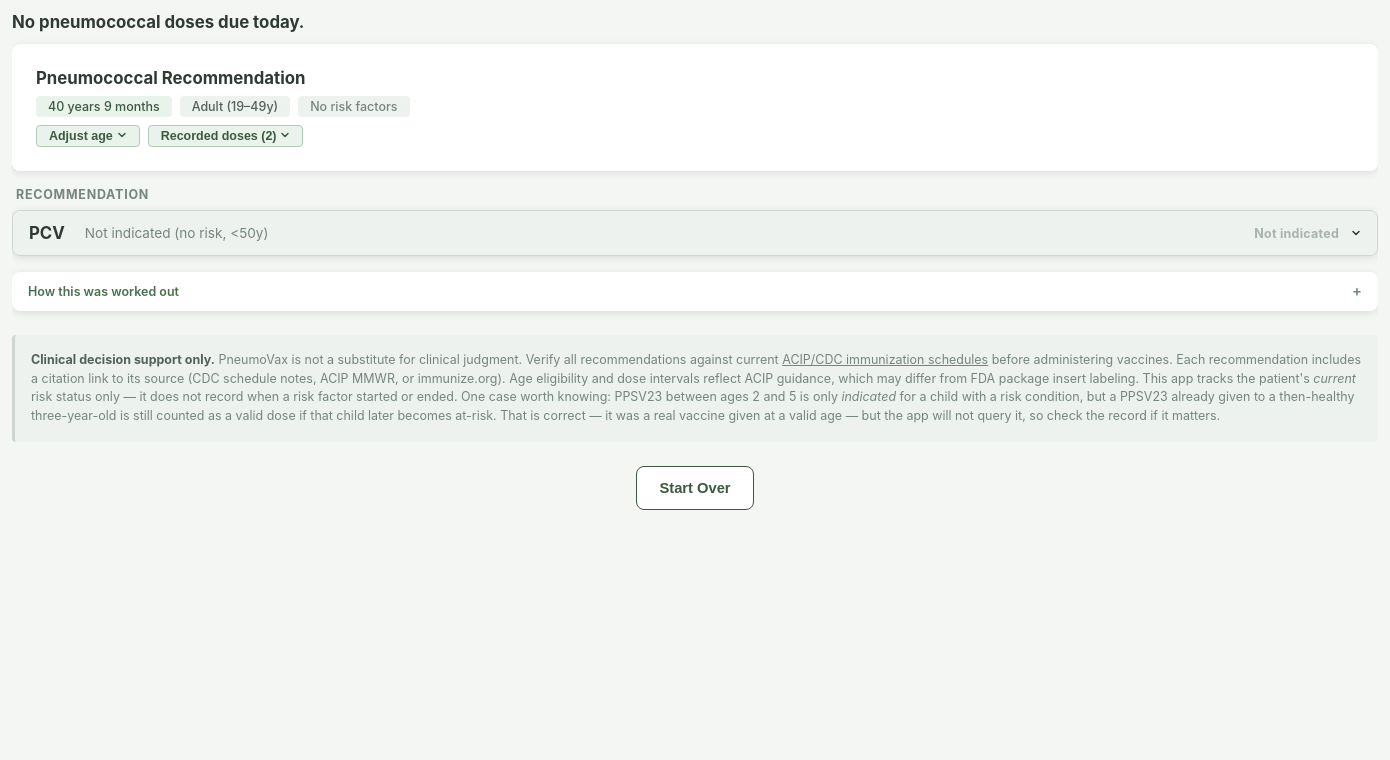
Test case: S14-4B UI — the PPSV23 extra dose is visible on the card › the chip reads "Extra dose", not "Dose 1"
Click the button "PCV Not indicated (no risk, <50y) Not indicated" at [47, 233], box [13,211,1377,255]
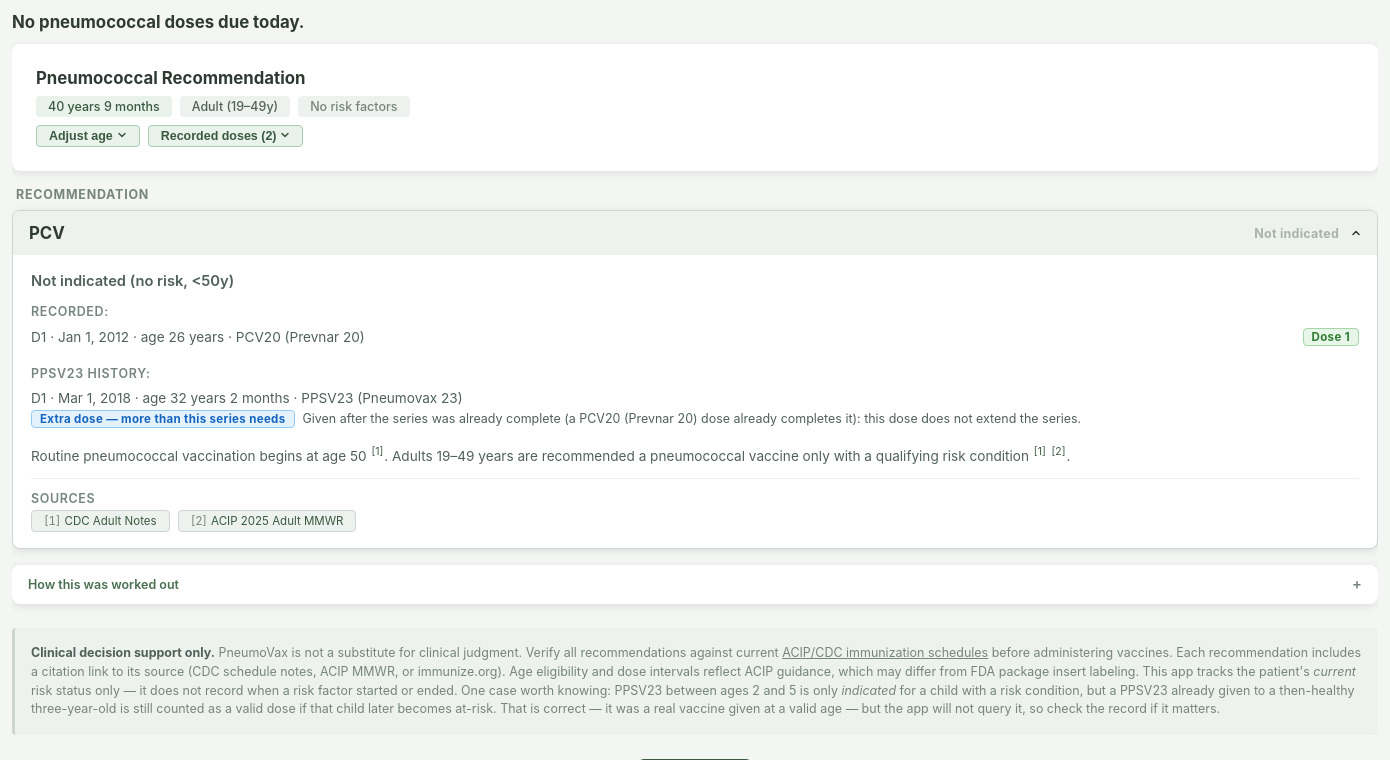
Now the text "Extra dose — more than this series needs" is shown, box [31,410,294,428]
